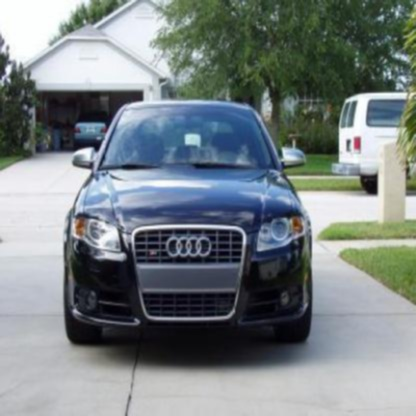Vehicle: (64, 100, 314, 345)
